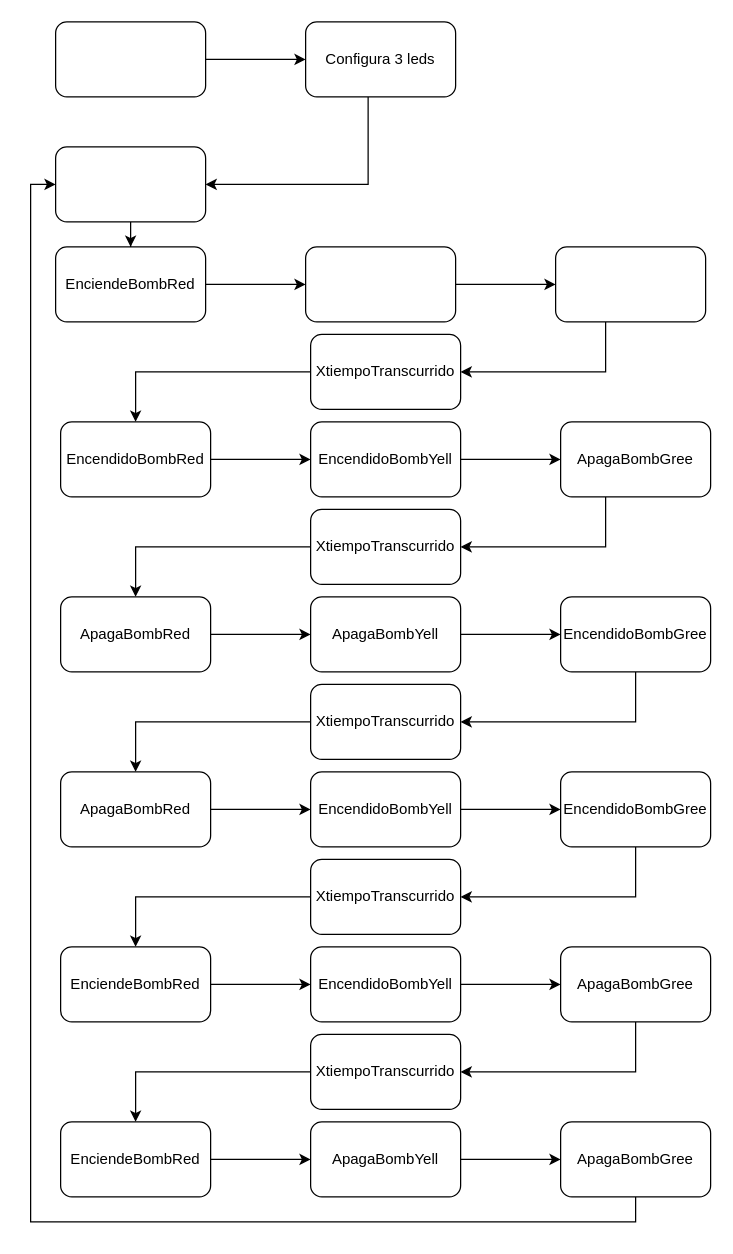
Image size: 733x1254. Some labels were removed from this diagram. Each missing label, with the box of its shape:
ApagaBombGre: (554, 246, 706, 322)
ApagaBombYel: (304, 246, 456, 322)
Loop: (54, 146, 206, 222)
Setup: (54, 21, 206, 97)
